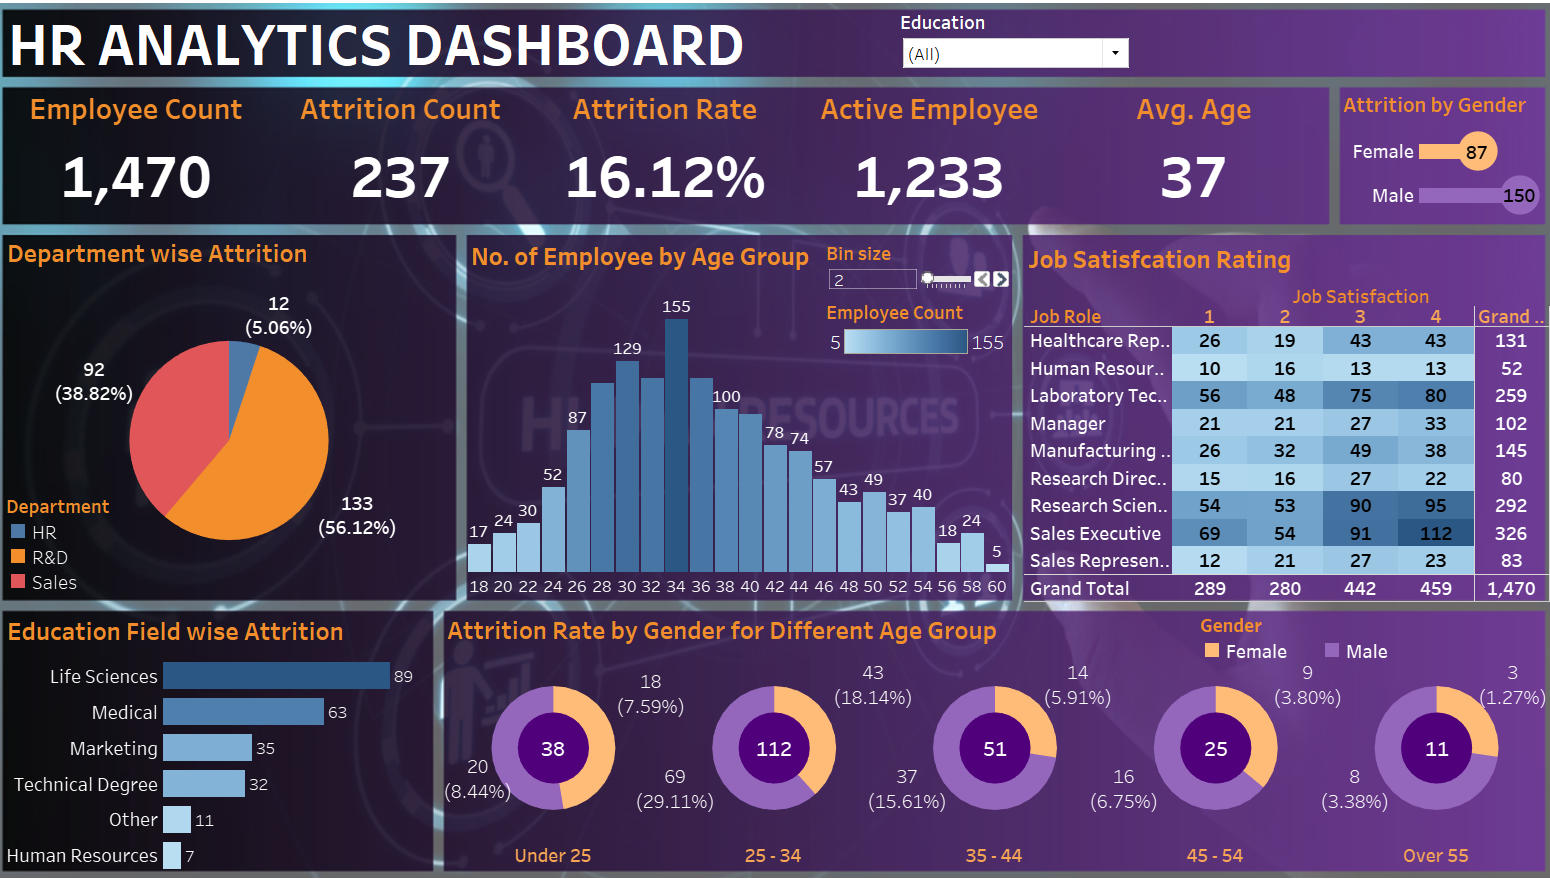

This screenshot's page, from the dashboard's own definition file:
{"tool":"tableau","page":{"name":"Hr Analytics DashBoard","canvas":[1580,900],"ordinal":0},"visuals":[{"type":"image","param":"Image/HR background.pptx.png","box":[8,8,1564,884]},{"type":"filter","title":"No. of Employee by Age Group","param":"[federated.0ph7fdd0m4xah01ayiolv0g0dhvz].[none:Education:nk]","box":[916,18,232,70]},{"type":"text","box":[20,21,784,61]},{"type":"worksheet","title":"Attrition by Gender","mark":"Automatic","rows":["Gender"],"cols":["Calculation_889179478649024512","Calculation_889179478649024512"],"box":[1355,95,206,131]},{"type":"worksheet","title":"KPI","mark":"Automatic","box":[20,96,1322,134]},{"type":"worksheet","title":"Department wise Attrition","mark":"Pie","box":[19,241,452,369]},{"type":"worksheet","title":"No. of Employee by Age Group","mark":"Automatic","rows":["Employee Count"],"cols":["Age (bin)"],"box":[483,244,543,363]},{"type":"worksheet","title":"Job Satisfcation Rating","mark":"Square","rows":["Job Role"],"cols":["Job Satisfaction"],"box":[1040,247,526,364]},{"type":"parameter","param":"[Parameters].[Parameter 1]","box":[842,249,186,51]},{"type":"legend","title":"No. of Employee by Age Group","param":"[federated.0ph7fdd0m4xah01ayiolv0g0dhvz].[sum:Employee Count:qk]","box":[842,308,183,58]},{"type":"legend","title":"Department wise Attrition","param":"[federated.0ph7fdd0m4xah01ayiolv0g0dhvz].[none:Department:nk]","box":[22,502,140,101]},{"type":"worksheet","title":"Attrition Rate by Gender for Different Age Group","mark":"Pie","rows":["Calculation_889179478677880837","Calculation_889179478677880837"],"cols":["CF_age band"],"box":[459,618,1104,259]},{"type":"worksheet","title":"Education Field wise Attrition","mark":"Automatic","rows":["Education Field"],"cols":["Calculation_889179478649024512"],"box":[19,619,428,263]},{"type":"legend","title":"Attrition Rate by Gender for Different Age Group","param":"[federated.0ph7fdd0m4xah01ayiolv0g0dhvz].[none:Gender:nk]","box":[1216,621,283,51]}]}

Visuals, with their boxes in screenshot pixels (x1, y1, x2, y2), scaled from the page's 1580x900 canvas onto the 1550x879 screenshot:
image: 8,8,1542,871
"No. of Employee by Age Group" filter: 899,18,1126,86
text: 20,21,789,80
"Attrition by Gender" worksheet: 1329,93,1531,221
"KPI" worksheet: 20,94,1317,225
"Department wise Attrition" worksheet (Pie marks): 19,235,462,596
"No. of Employee by Age Group" worksheet: 474,238,1007,593
"Job Satisfcation Rating" worksheet (Square marks): 1020,241,1536,597
parameter: 826,243,1008,293
"No. of Employee by Age Group" legend: 826,301,1006,357
"Department wise Attrition" legend: 22,490,159,589
"Attrition Rate by Gender for Different Age Group" worksheet (Pie marks): 450,604,1533,857
"Education Field wise Attrition" worksheet: 19,605,439,861
"Attrition Rate by Gender for Different Age Group" legend: 1193,607,1471,656
